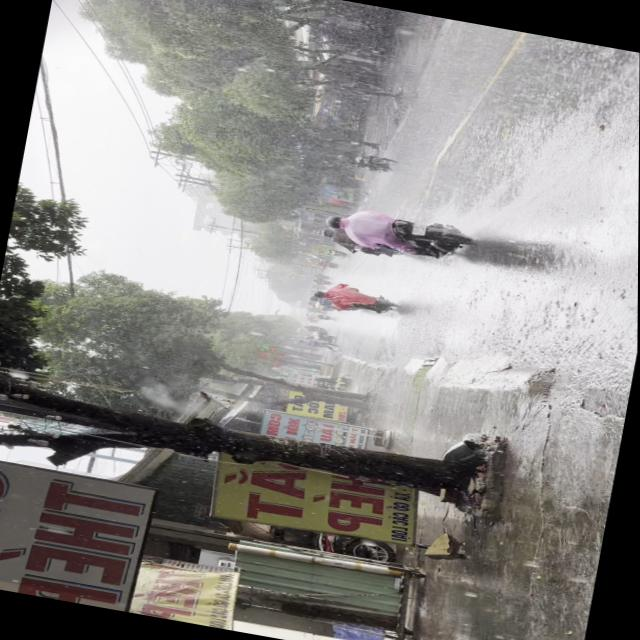helmet: (322, 212, 345, 228)
licenseplate: (318, 198, 478, 266)
nohelmet: (411, 221, 427, 235)
